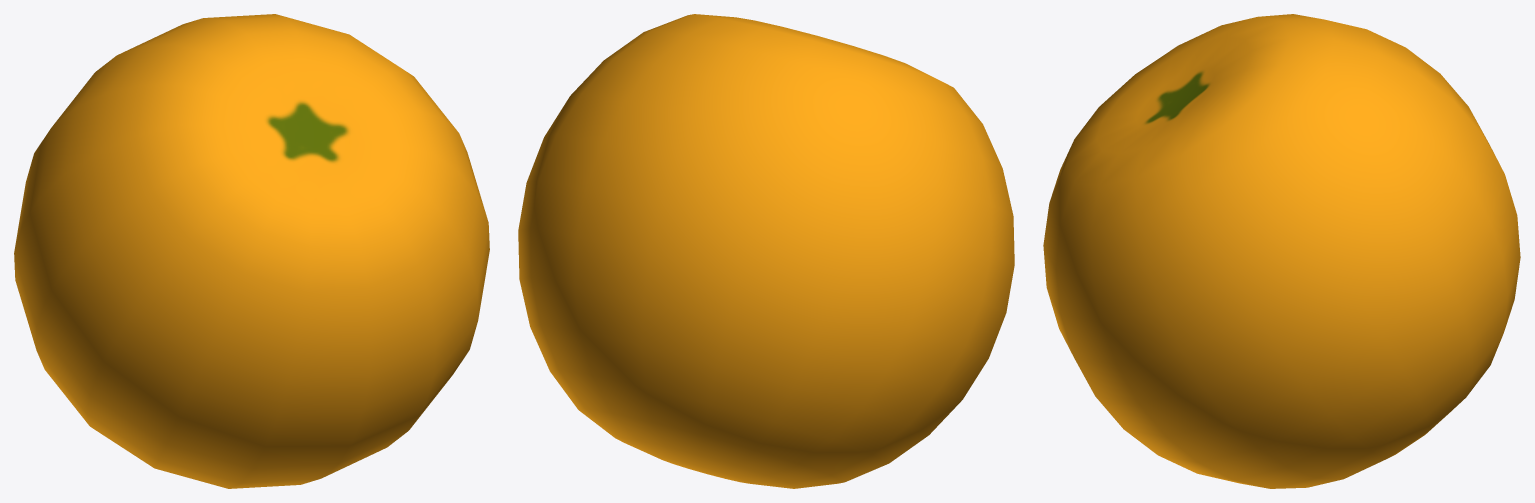
Rendered from Orange.fbx.
3 renders of one model, left to right at view 1: azimuth 30°, elevation 25°; view 2: azimuth 150°, elevation 25°; view 3: azimuth 270°, elevation 25°, orthographic. The views are drawn at different scales.
Visible parts, largest first — view 1: Orange; view 2: Orange; view 3: Orange.
Part boxes in pixels (x1=…): Orange: x1=14, y1=14, x2=489, y2=488; Orange: x1=518, y1=14, x2=1014, y2=488; Orange: x1=1043, y1=14, x2=1520, y2=488.
Bounding box in the file's own units: 1.23 × 1.22 × 1.23.
1 material, 1 textured.
